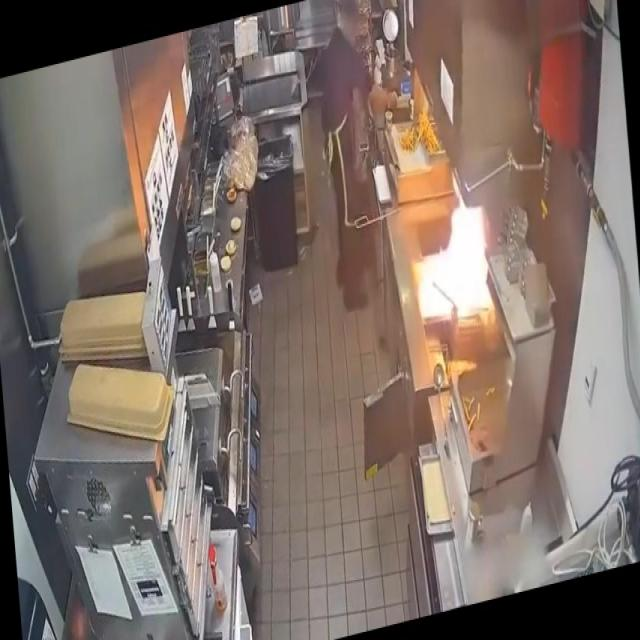fire: (406, 166, 505, 359)
